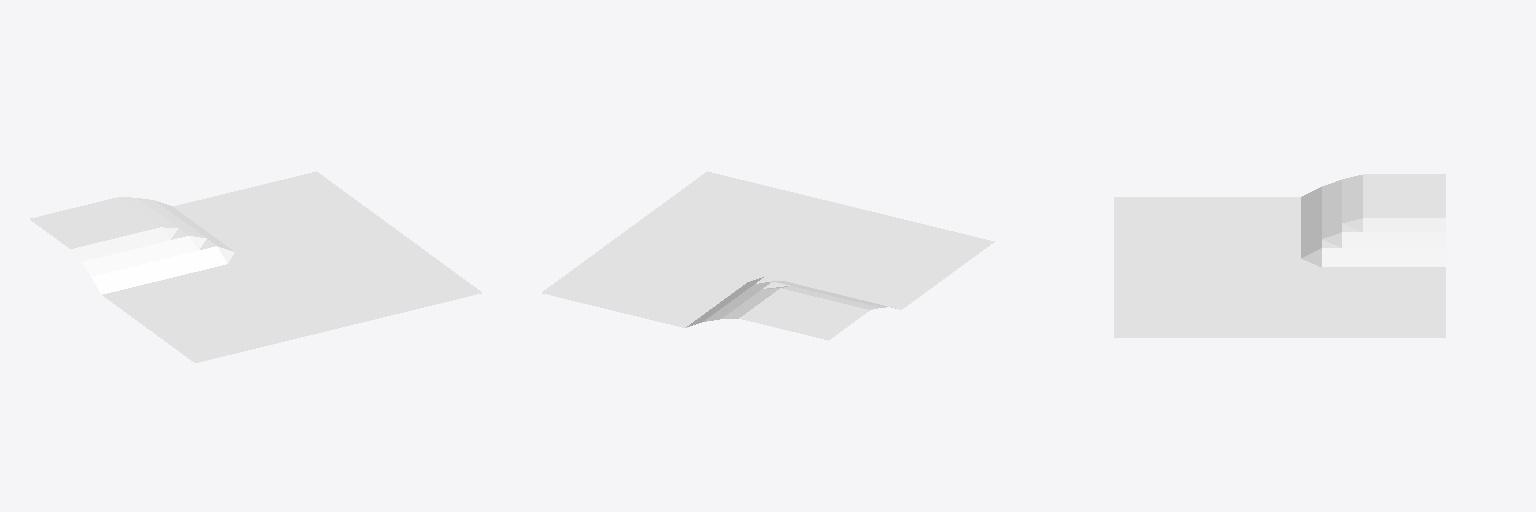
The model's file is test_terrain_mapped.obj.
The picture shows the model from 3 angles: view 1: azimuth 30°, elevation 25°; view 2: azimuth 150°, elevation 25°; view 3: azimuth 270°, elevation 25°; orthographic projection.
Visible parts, largest first — view 1: mesh01; view 2: mesh01; view 3: mesh01.
Boxes of the visible parts, <box> form: mesh01: <box>30,171,481,362</box>; mesh01: <box>542,171,994,340</box>; mesh01: <box>1114,174,1445,337</box>.
Size of the model in its own units: 167 by 12.58 by 167.